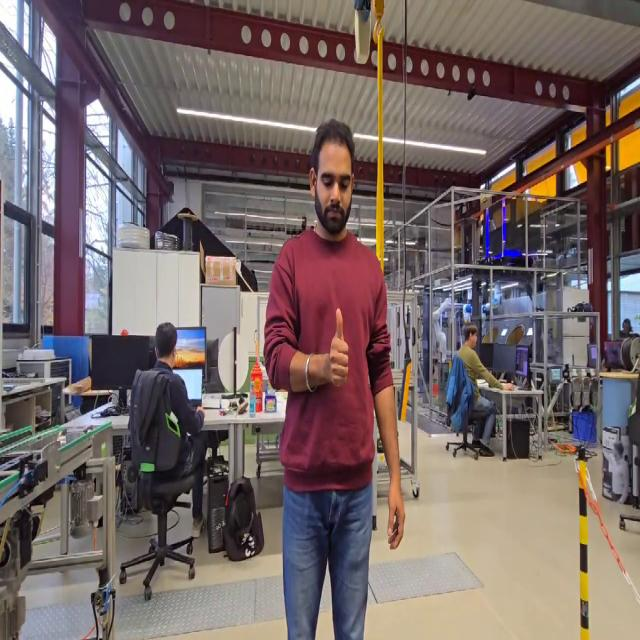thumbs_up: (327, 307, 355, 393)
